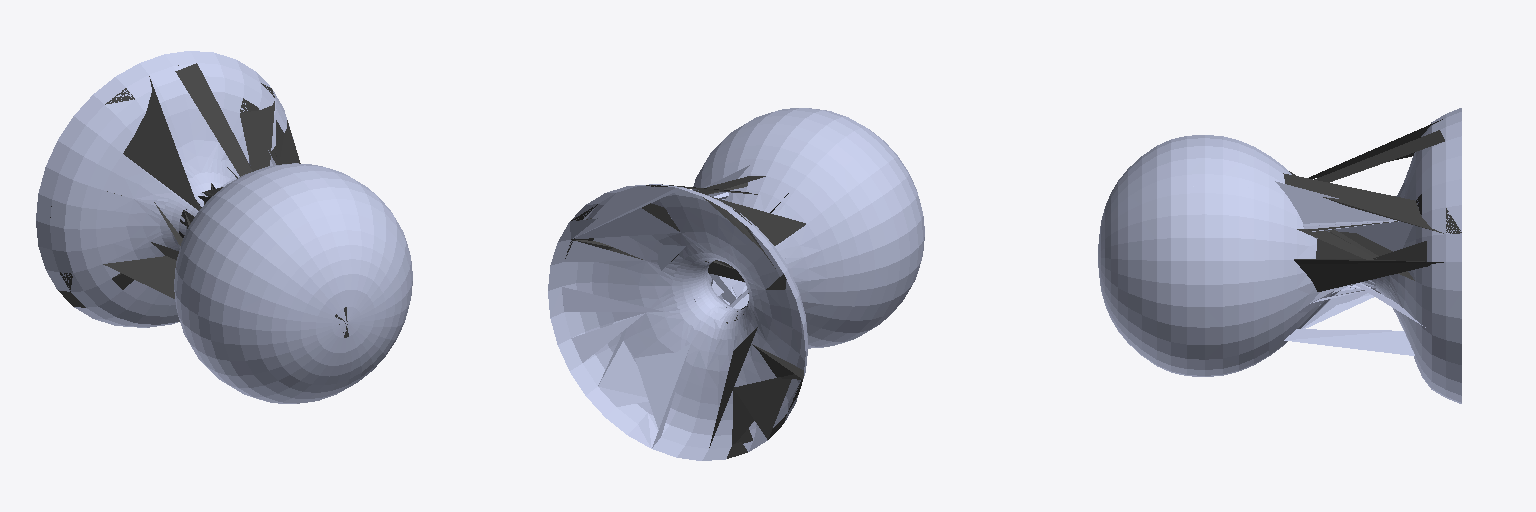
The model's file is TableOBJ.obj.
The picture shows the model from 3 angles: view 1: azimuth 30°, elevation 25°; view 2: azimuth 150°, elevation 25°; view 3: azimuth 270°, elevation 25°; orthographic projection.
Visible parts, largest first — view 1: nurbsToPolyShape2, Wood, pCylinderShape1; view 2: nurbsToPolyShape2, pCylinderShape1, Wood, pCubeShape2, nurbsToPolyShape1; view 3: nurbsToPolyShape2, Wood, pCylinderShape1, nurbsToPolyShape1.
Boxes of the visible parts, box(x1,y1,x2,y2) form: nurbsToPolyShape2: box(36, 51, 412, 403); Wood: box(50, 63, 348, 337); pCylinderShape1: box(197, 93, 402, 401); nurbsToPolyShape2: box(548, 108, 924, 460); pCylinderShape1: box(562, 128, 877, 448); Wood: box(565, 176, 805, 458); pCubeShape2: box(734, 301, 803, 439); nurbsToPolyShape1: box(706, 136, 748, 328); nurbsToPolyShape2: box(1098, 108, 1461, 403); Wood: box(1283, 119, 1461, 291); pCylinderShape1: box(1157, 181, 1460, 359); nurbsToPolyShape1: box(1098, 168, 1380, 369).
Size of the model in its own units: 0.3724 by 0.3724 by 0.4559.